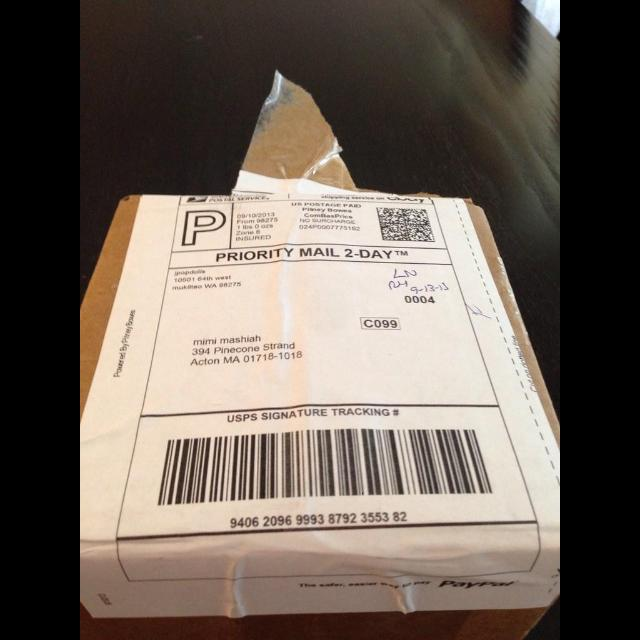papelão: (80, 190, 560, 640)
